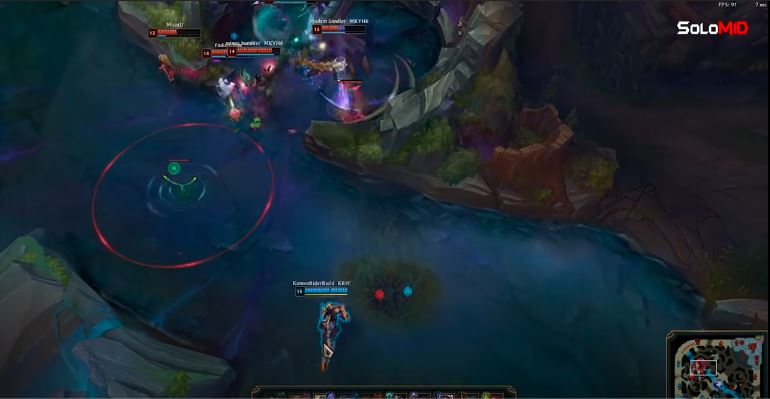w: (199, 46, 260, 62), (292, 284, 352, 298), (146, 26, 204, 40), (311, 22, 368, 36), (225, 44, 283, 57)
